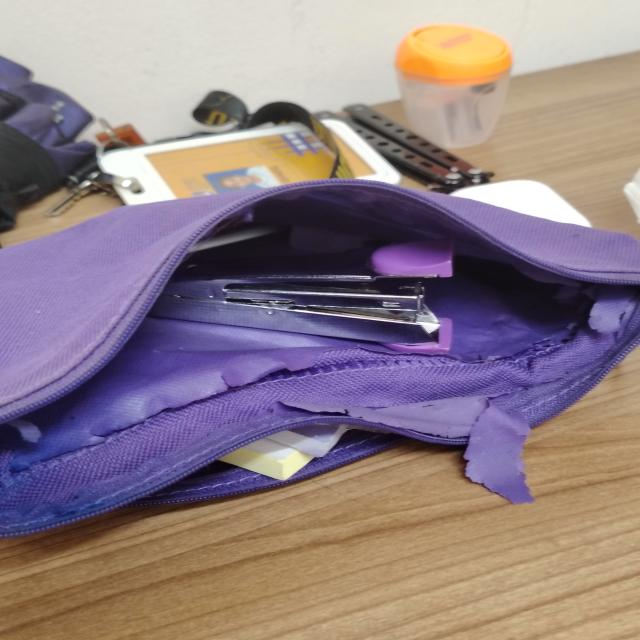sharpener: (395, 24, 512, 148)
stapler: (151, 240, 452, 353)
